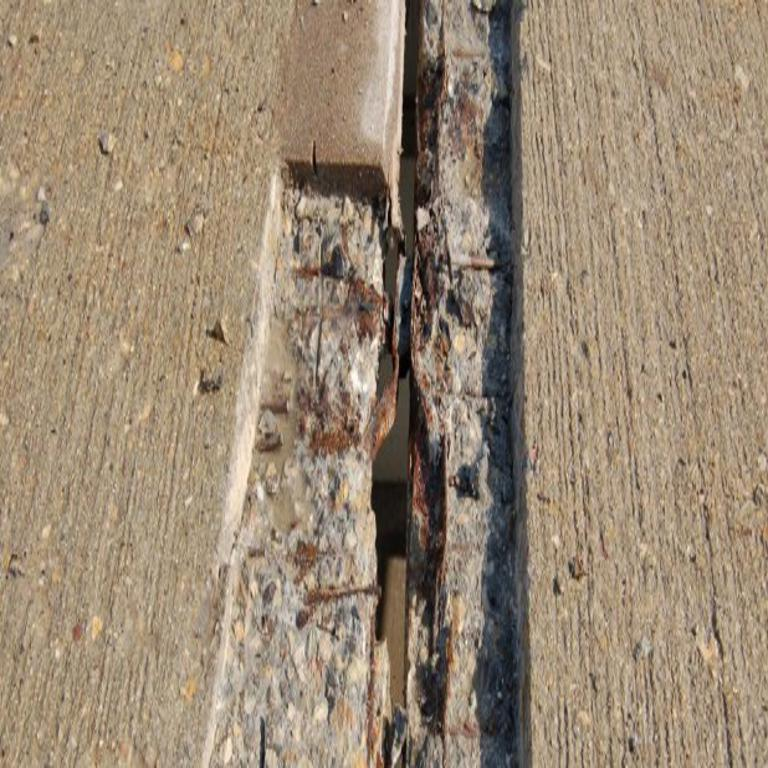spalling: (208, 0, 522, 767)
